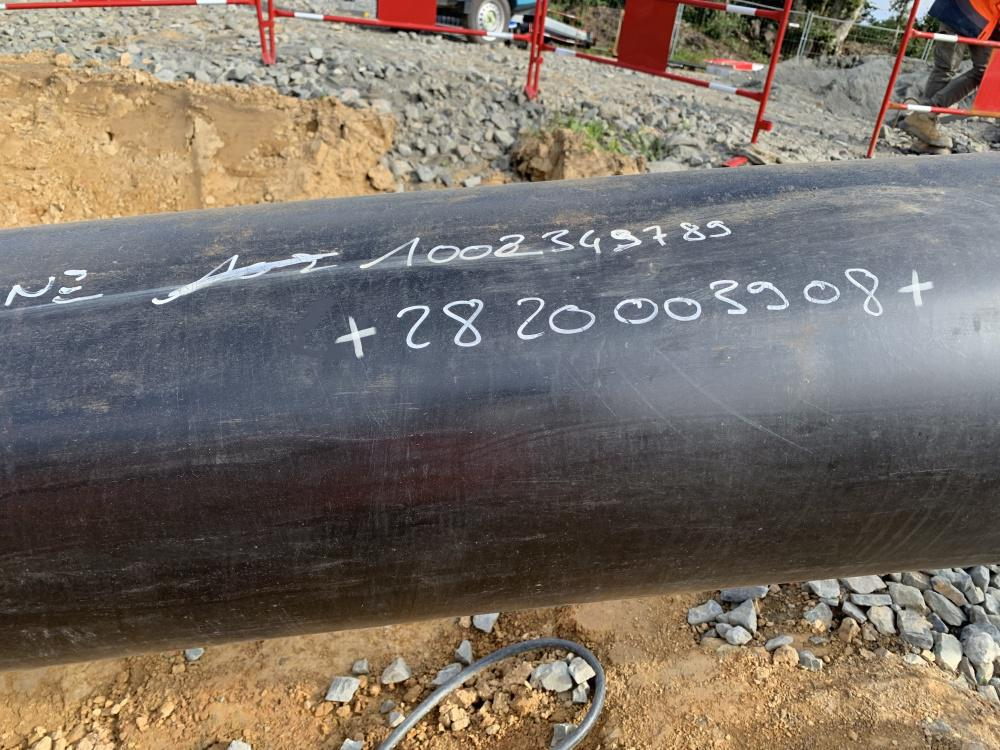+: (335, 312, 377, 357), (900, 269, 936, 306)
0: (548, 303, 596, 338), (615, 296, 658, 326), (663, 294, 704, 325), (802, 279, 841, 306), (426, 244, 458, 264), (458, 242, 490, 260)
1: (358, 237, 421, 270)
2: (397, 305, 434, 350), (514, 296, 546, 341), (497, 233, 543, 259)
3: (708, 279, 746, 318), (543, 227, 572, 252)
4: (578, 229, 602, 256)
7: (644, 225, 668, 247)
8: (442, 298, 486, 348), (844, 266, 884, 316), (679, 221, 707, 245)
9: (746, 280, 790, 314), (610, 228, 640, 252), (708, 217, 730, 242)
N: (8, 274, 56, 310)
